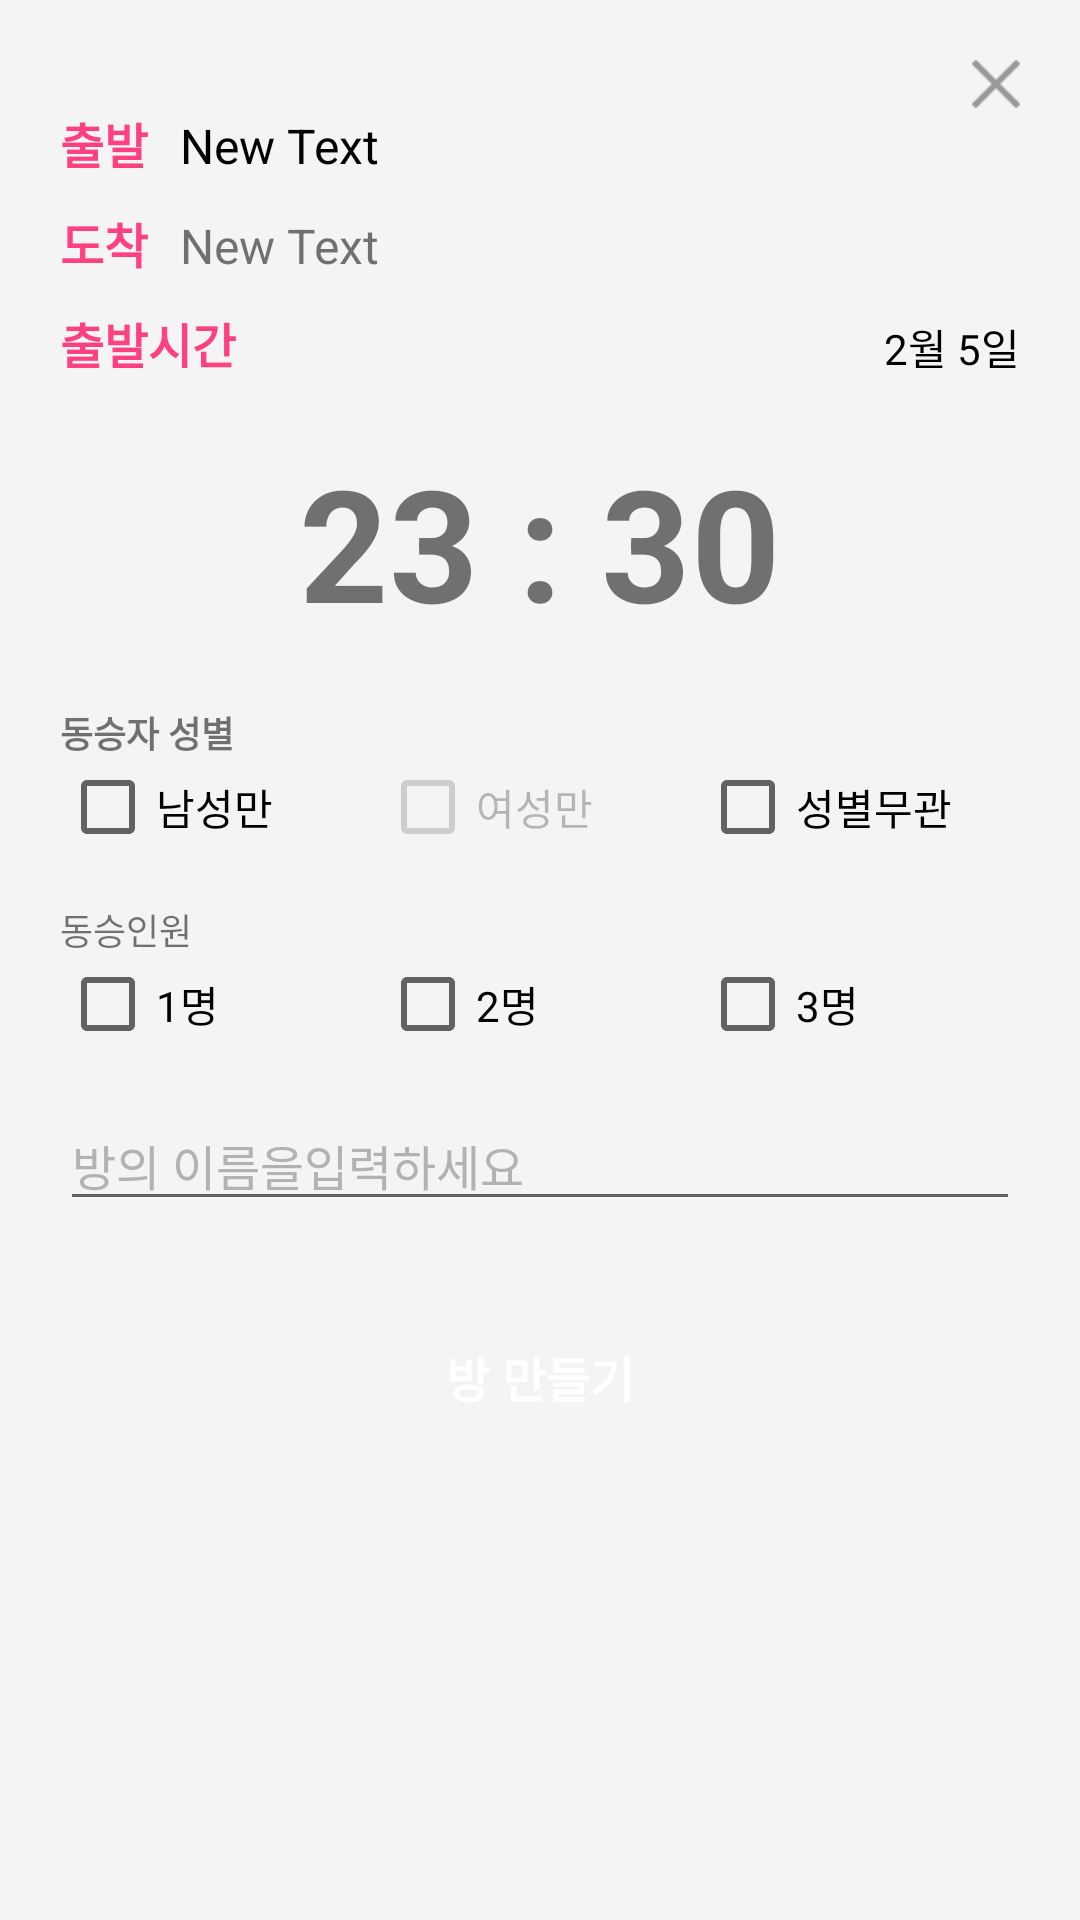

Where to tap for icons on this 1080*1920 app screen, as point (x, y):
close: point (996, 84)
